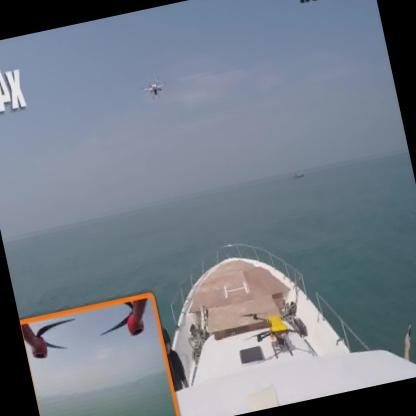drone: (136, 68, 172, 107)
